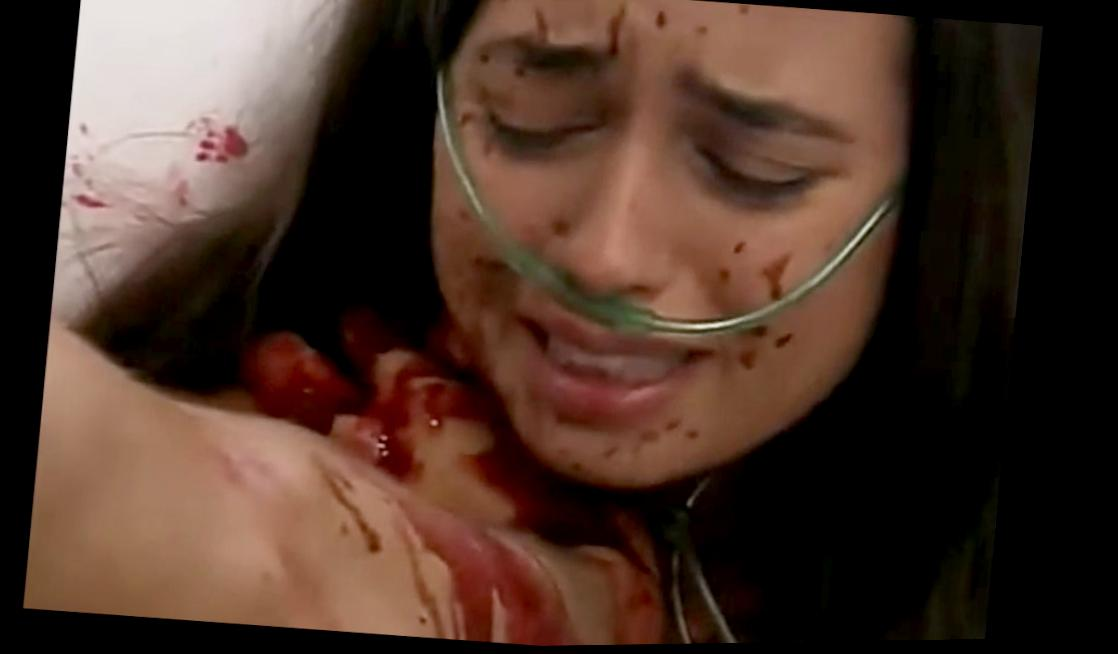Fire: (244, 333, 665, 648), (440, 259, 850, 490), (470, 0, 750, 58), (652, 240, 825, 319), (188, 115, 248, 163), (62, 174, 112, 210)
